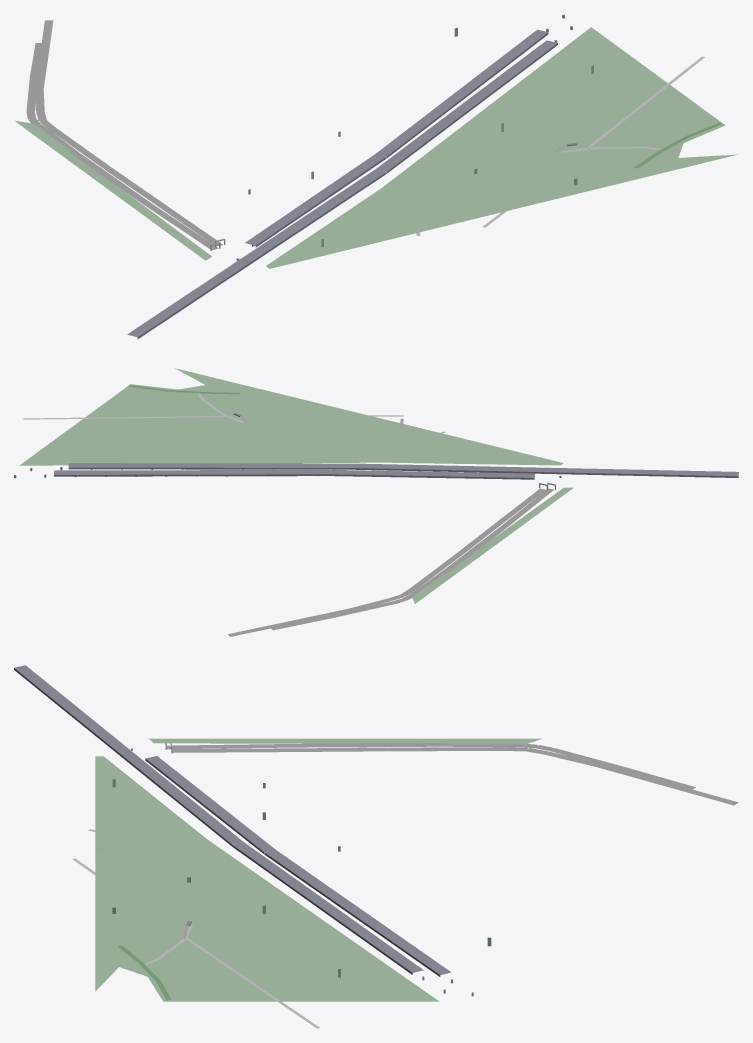
3 views of the same model, one above another, from view 1: azimuth 30°, elevation 25°; view 2: azimuth 150°, elevation 25°; view 3: azimuth 270°, elevation 25° (orthographic). The views are drawn at different scales.
Bounding box in the file's own units: 683 × 9.61 × 579.
